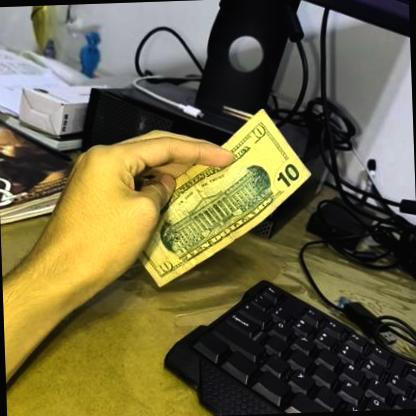ten-back: (118, 106, 316, 293)
